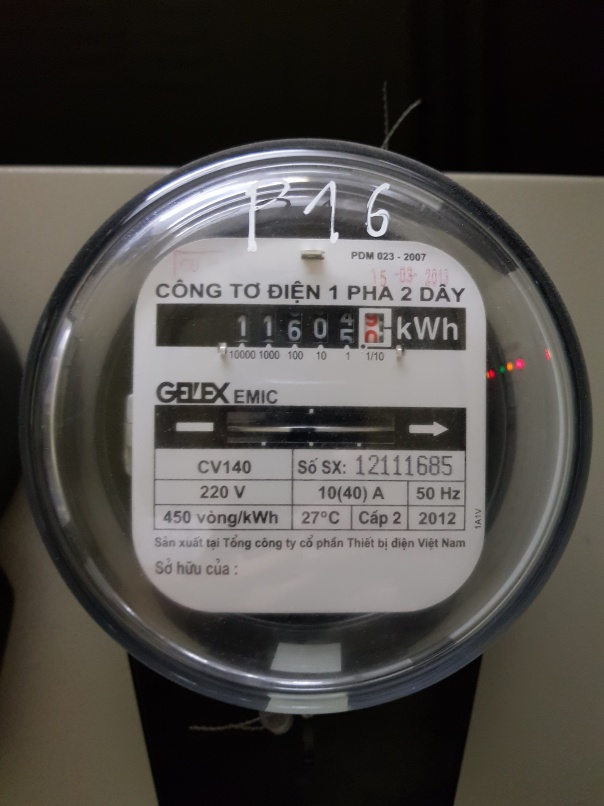counter: (156, 303, 466, 350)
electricity_meter: (24, 136, 595, 722)
